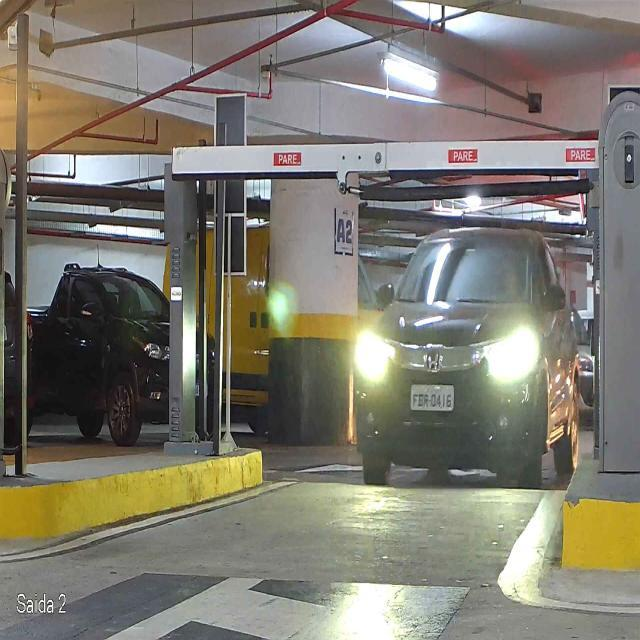old_plate: (410, 383, 456, 412)
